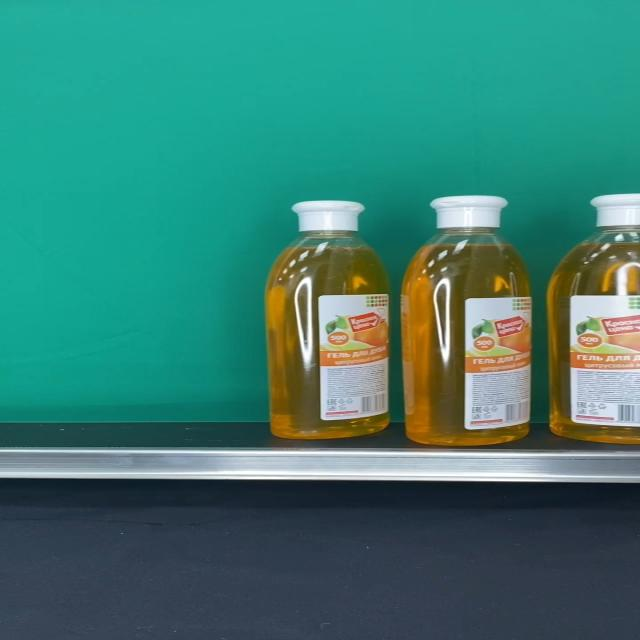Bottle: (403, 196, 532, 446), (265, 200, 390, 439)
Cap: (430, 196, 508, 229), (291, 200, 365, 232)
